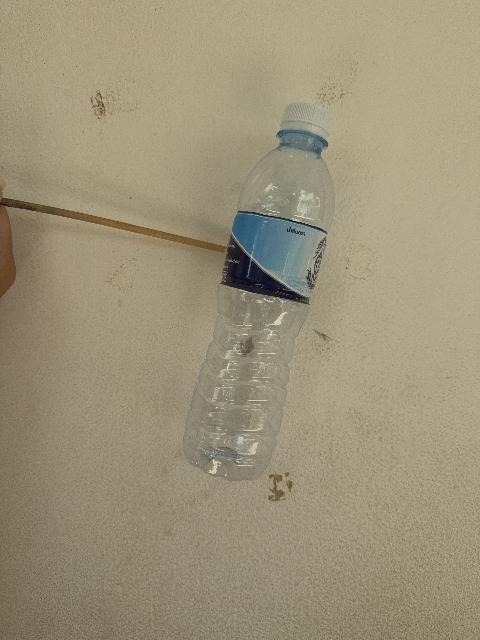bottle: (184, 103, 334, 480)
